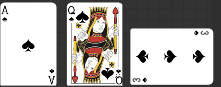3C: (192, 29, 210, 36), (131, 76, 148, 83)
AC: (46, 67, 55, 84)
